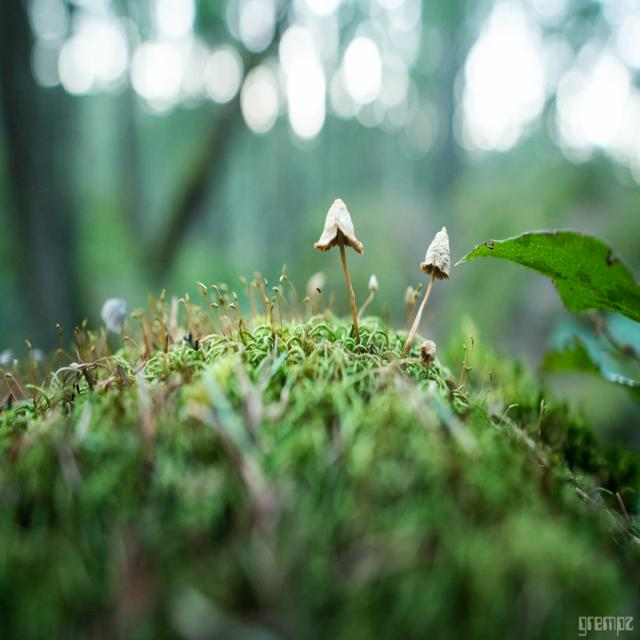Mushroom: (314, 196, 363, 343), (402, 224, 449, 351), (357, 273, 380, 323), (398, 338, 436, 364), (406, 286, 416, 330)
